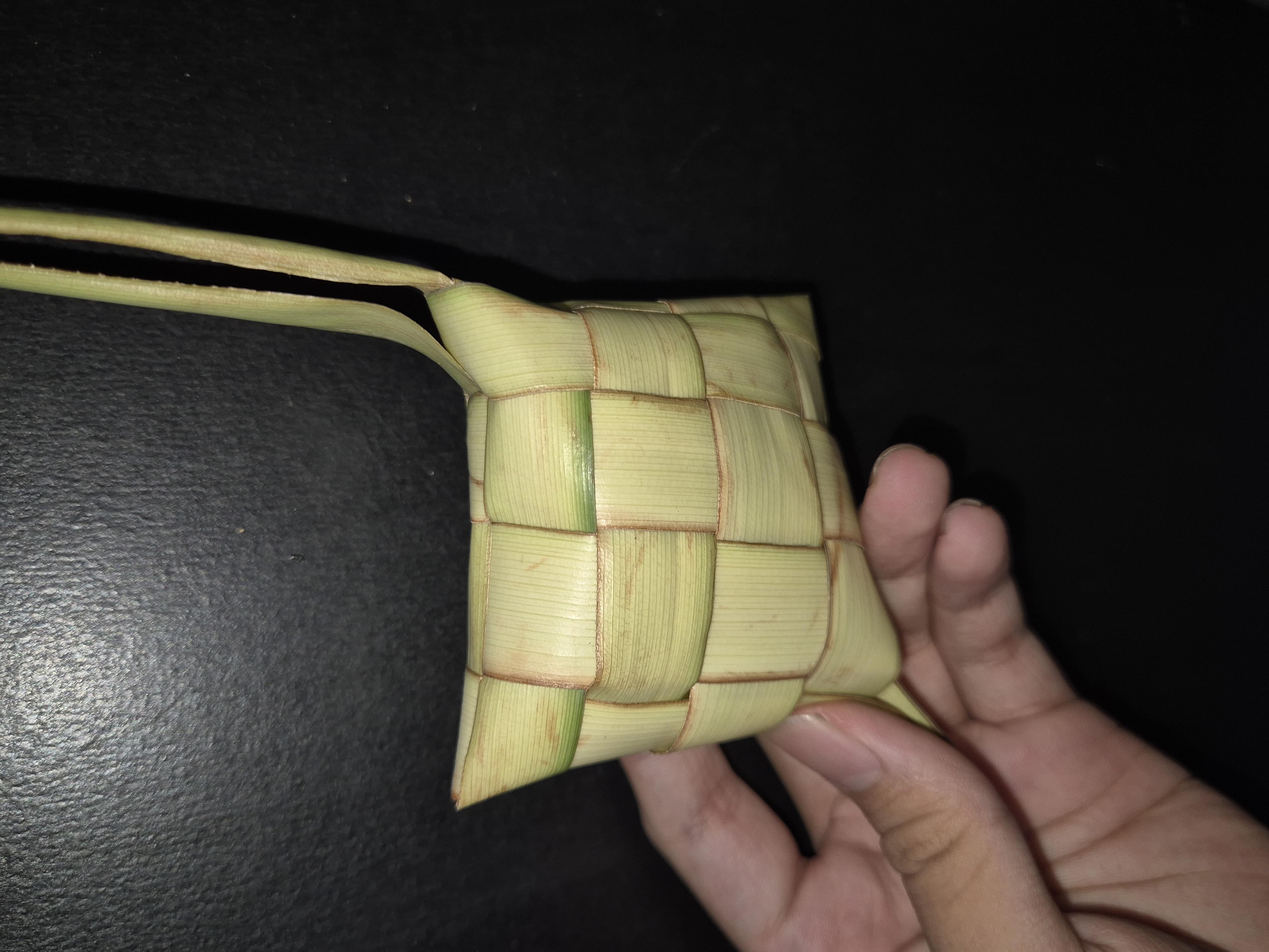Tipat Nasi: (201, 314, 896, 698)
